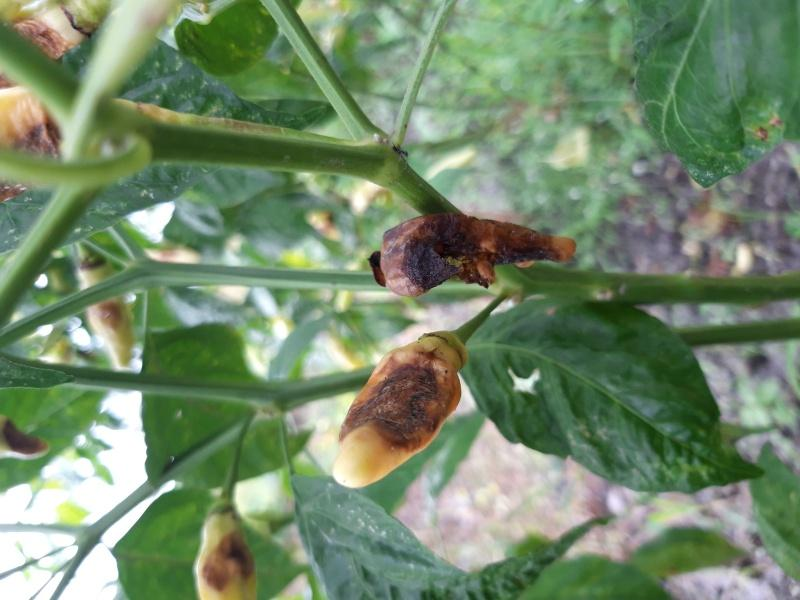antraknosa: (330, 334, 471, 488), (375, 212, 576, 296), (193, 509, 257, 600)
